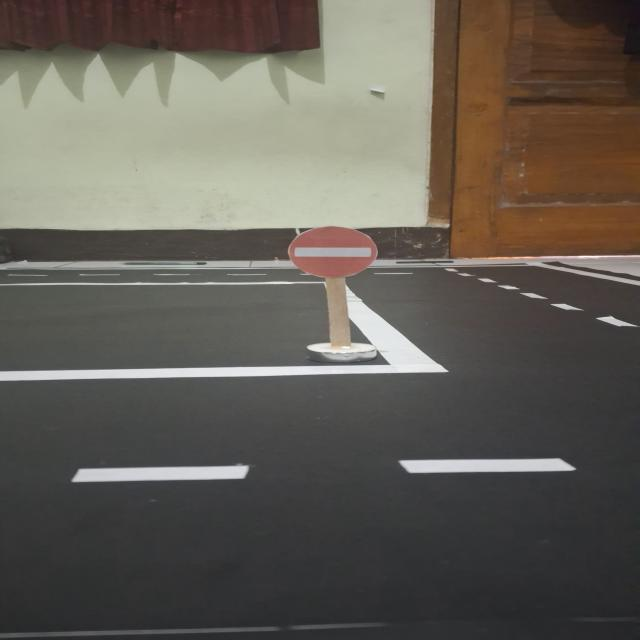Dilarang Masuk: (289, 226, 377, 277)
